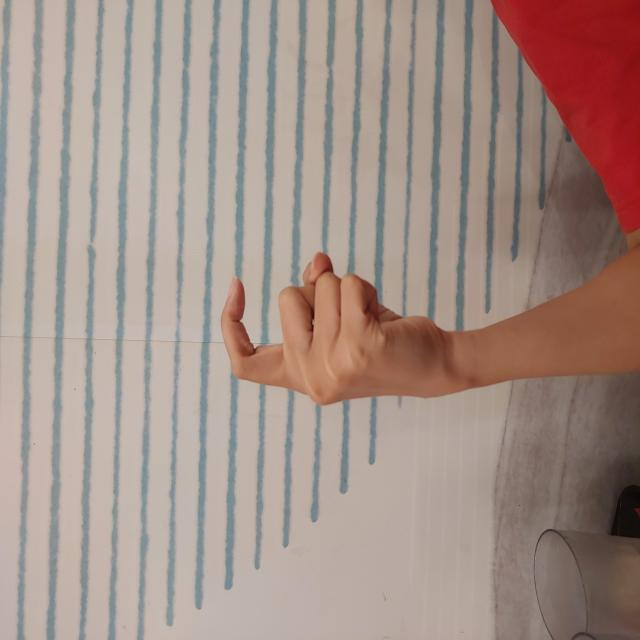X: (233, 220, 391, 455)
